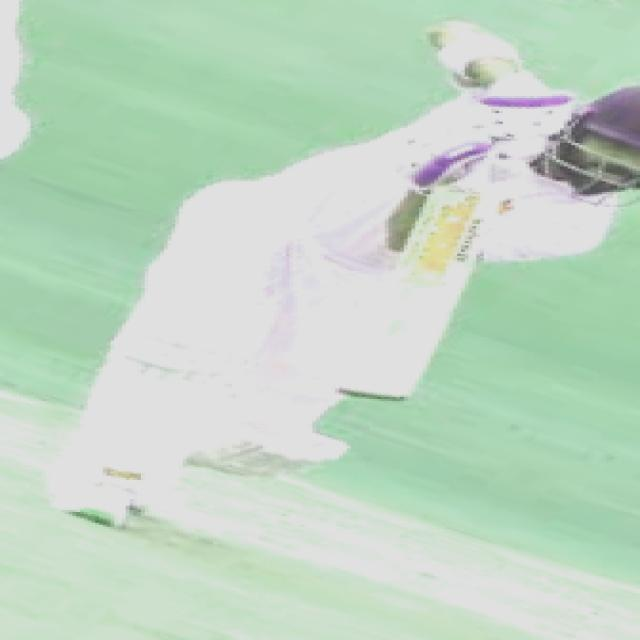toe: (334, 339, 435, 409)
